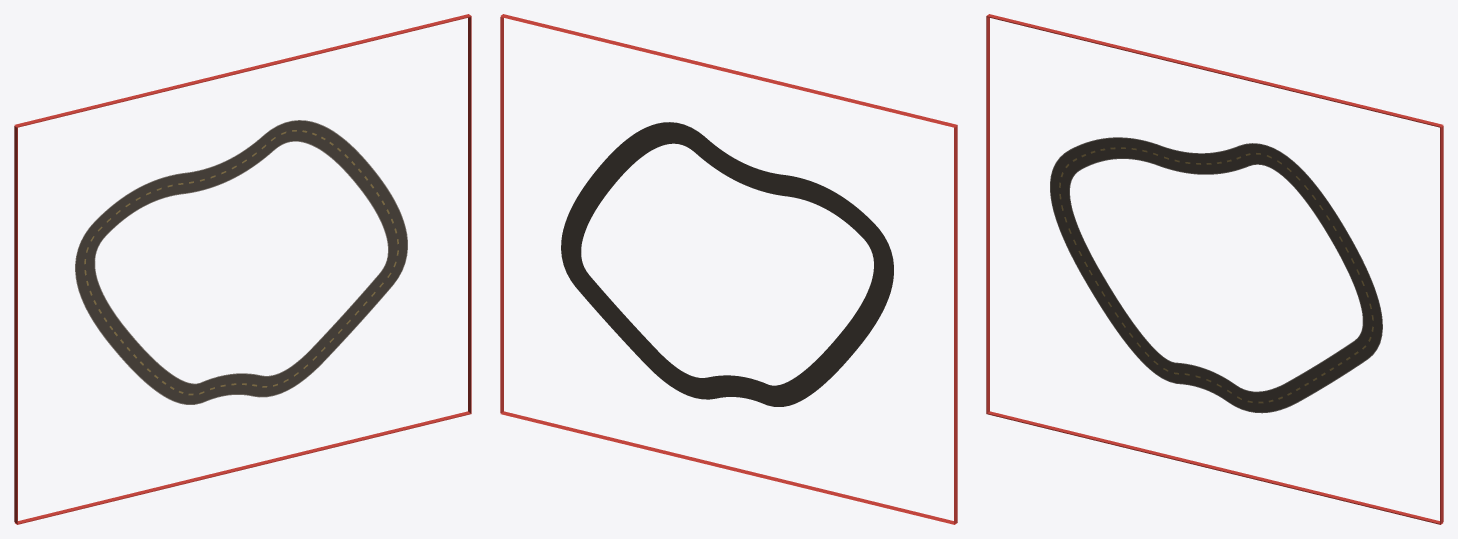
File: track.obj
3 views of the same model, side by side, from view 1: azimuth 30°, elevation 25°; view 2: azimuth 150°, elevation 25°; view 3: azimuth 330°, elevation 25° (orthographic).
Size of the model in its own units: 27.39 by 22.92 by 0.3.
4 materials, 4 textured.
